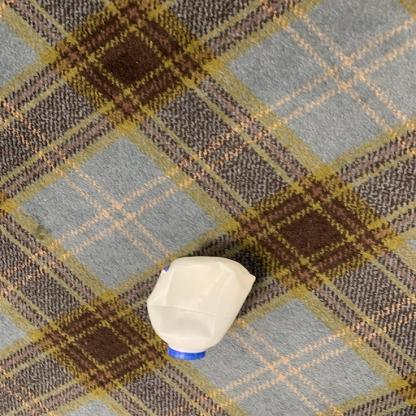trash: (145, 253, 256, 371)
